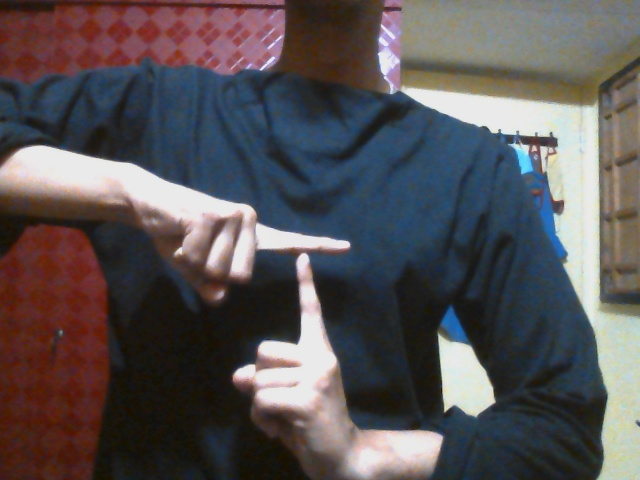T: (156, 191, 364, 453)
